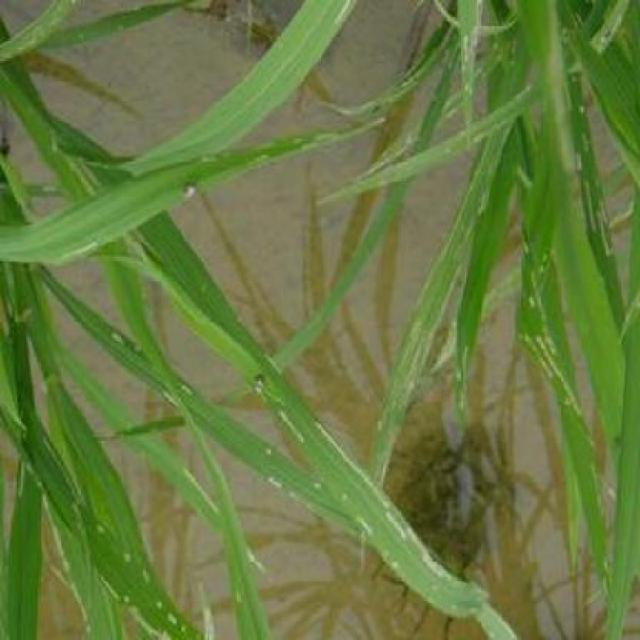rice-bug: (249, 369, 269, 398), (178, 179, 202, 203)
